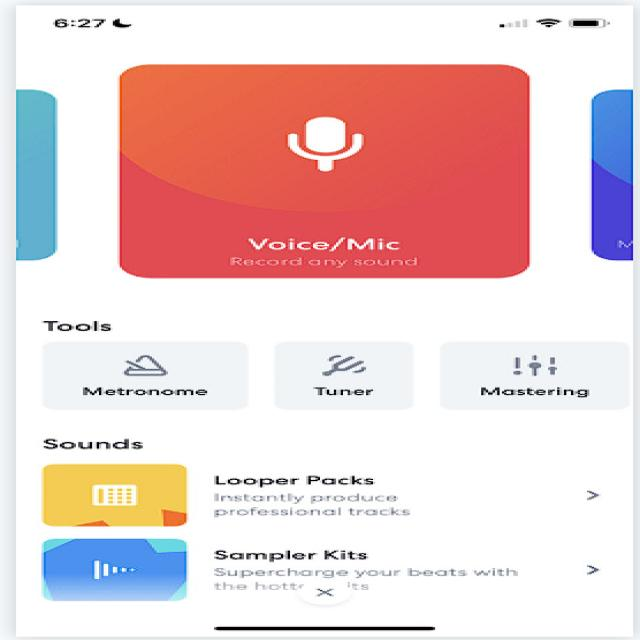icon button: (570, 479, 612, 505), (576, 556, 614, 582)
row: (18, 429, 640, 603), (18, 313, 640, 421)
text: (213, 542, 531, 598), (211, 468, 438, 522)
view: (101, 58, 550, 288), (26, 458, 202, 534), (27, 536, 206, 606)
